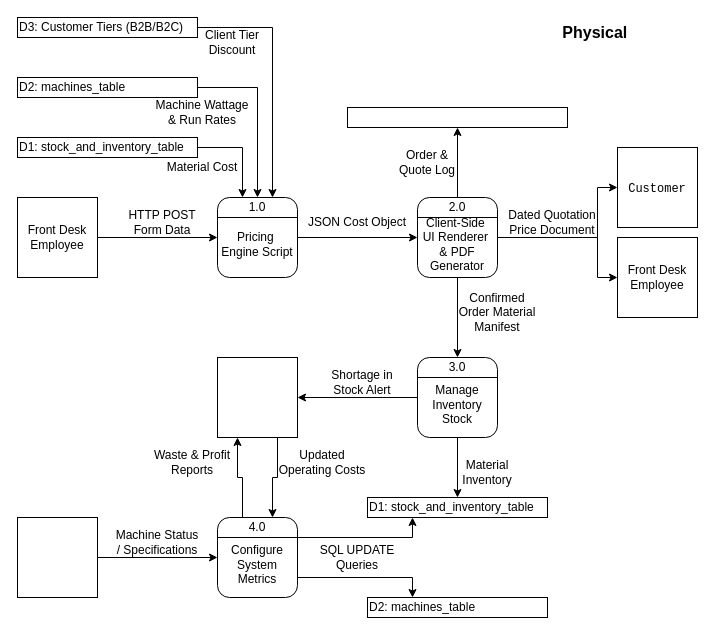
The diagram is 715 pixels wide and 635 high, and some of its shapes have lost their labels. The centre of each missing label's shape, as x and y in pixels:
"D4: orders_and_print_operations_table" goes at (x=457, y=117).
"Machine Operator / Designer" goes at (x=57, y=557).
"Manager / Owner" goes at (x=257, y=397).
